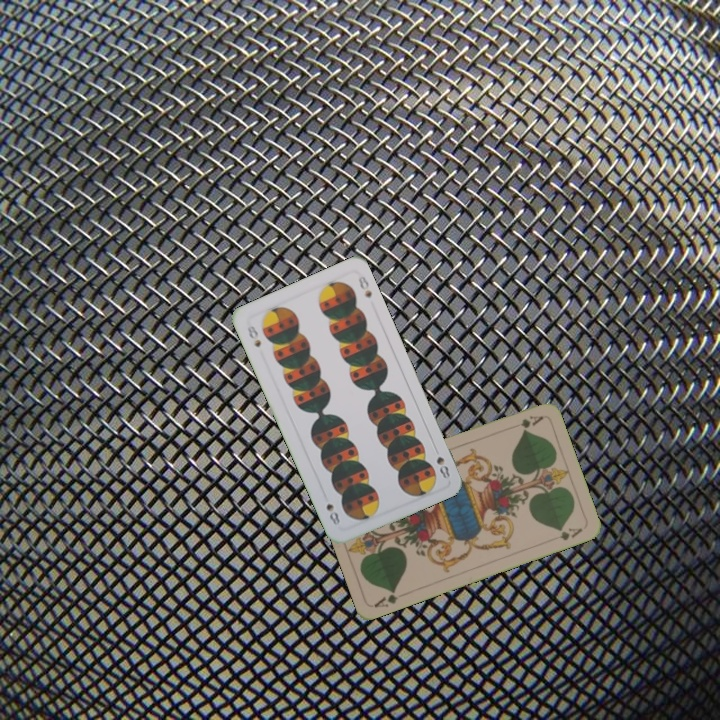GA: (370, 586, 401, 610), (516, 411, 546, 431)
S8: (432, 452, 453, 481), (243, 322, 263, 350)
